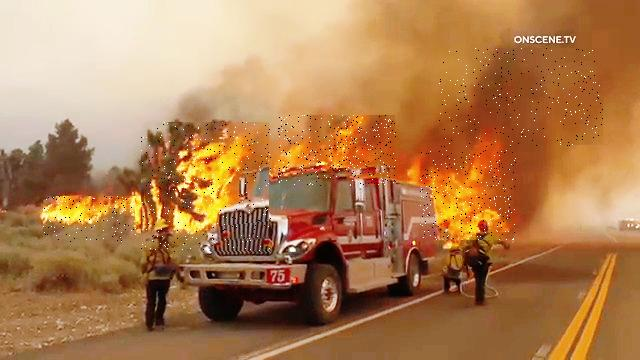fire: (142, 123, 272, 253), (421, 150, 517, 240), (278, 116, 396, 187), (43, 197, 136, 243)
smoke: (439, 49, 603, 148)
